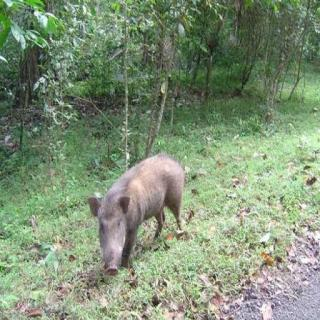Pig: (72, 146, 202, 277)
